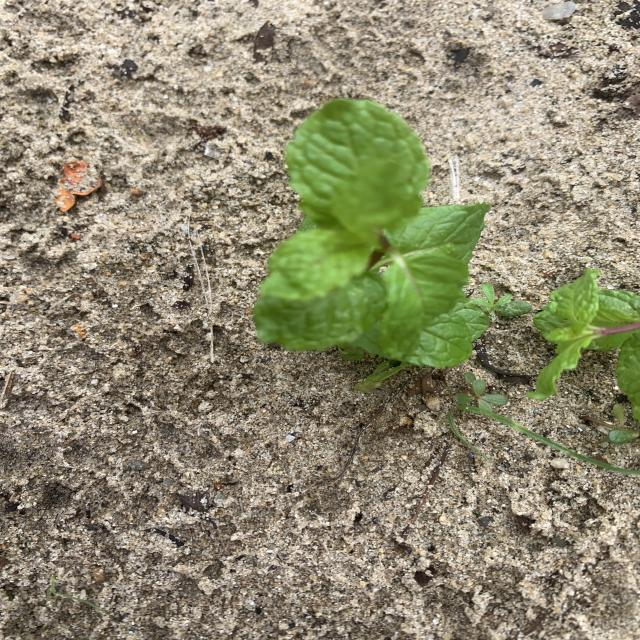crop: (254, 99, 489, 368), (529, 269, 640, 420)
weed: (454, 400, 640, 475), (581, 404, 640, 444), (455, 372, 509, 412), (45, 577, 101, 613), (447, 410, 474, 447)
